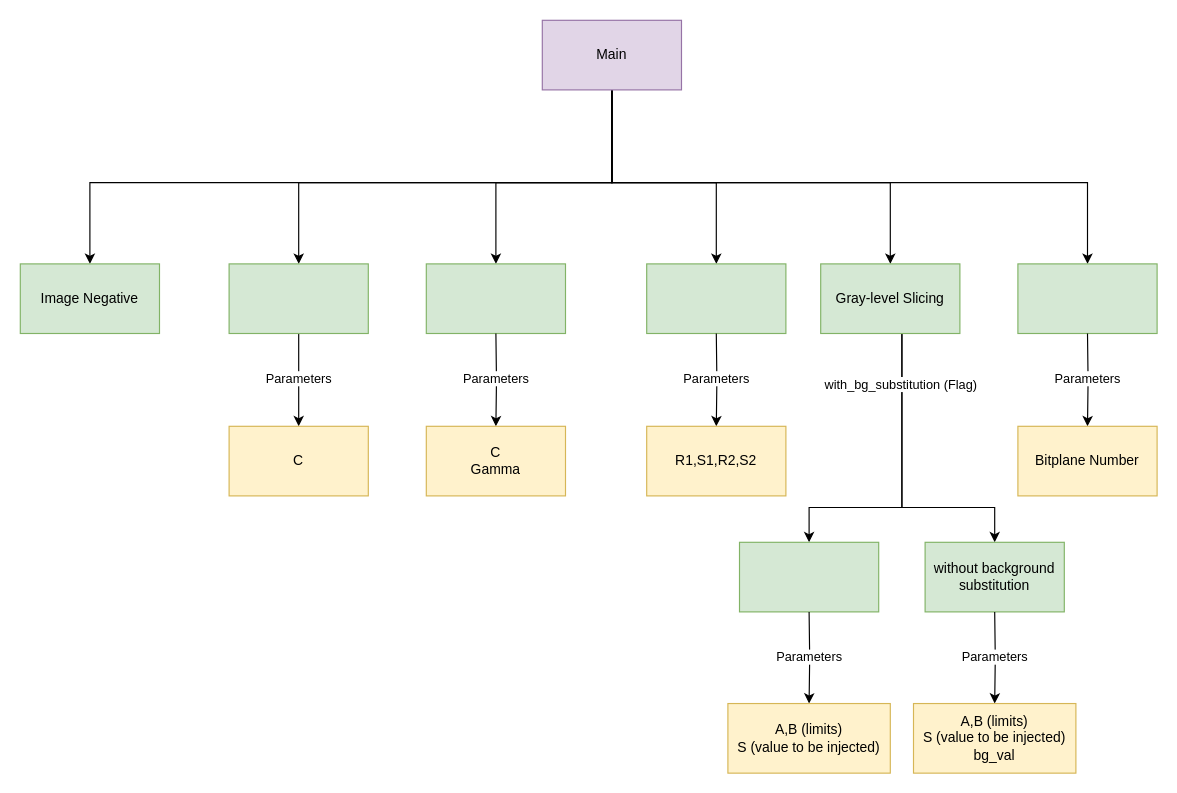
This 1177x793 diagram has some shape labels left out. The box of each missing label's shape, as (x1, y1, x2, y2) in pixels:
Bit Plane Slicing: (1017, 263, 1157, 334)
Contrast Stretching: (646, 263, 786, 334)
Log Transform: (228, 263, 368, 334)
Power Law Transform: (425, 263, 566, 334)
with background substitution: (738, 541, 879, 612)
